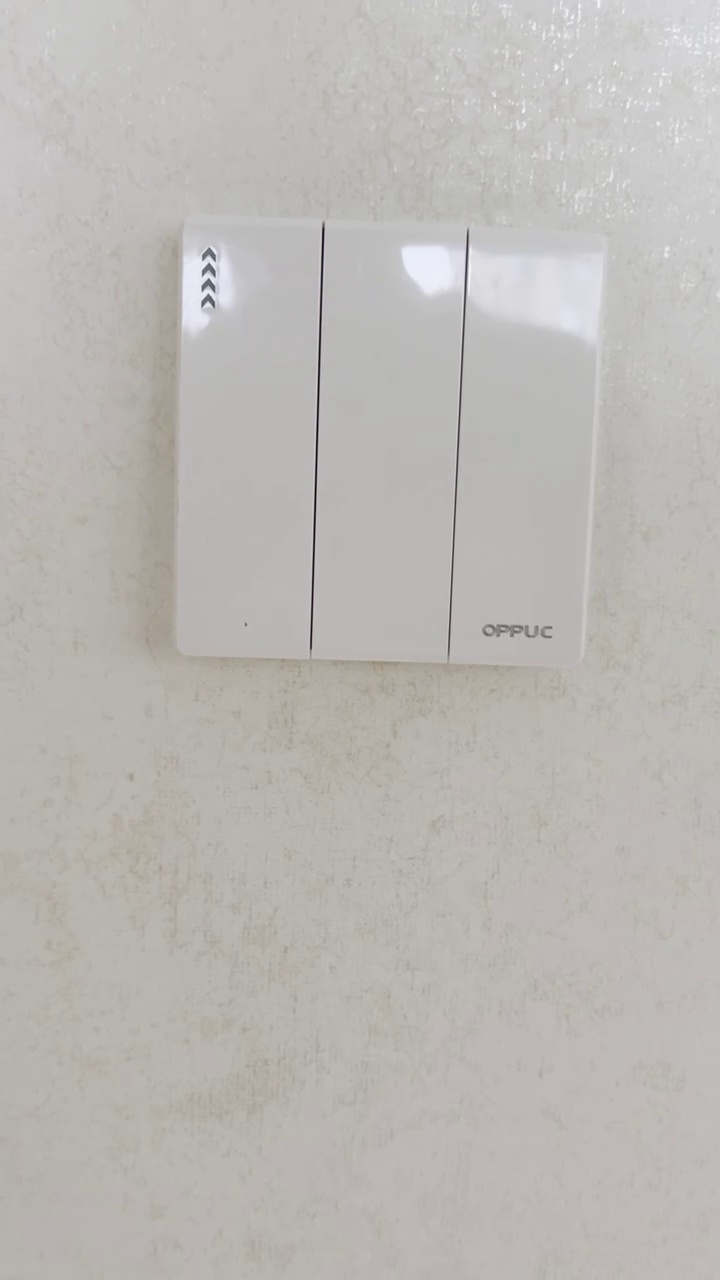button1: (318, 223, 457, 661), (178, 219, 317, 654), (454, 238, 596, 660)
